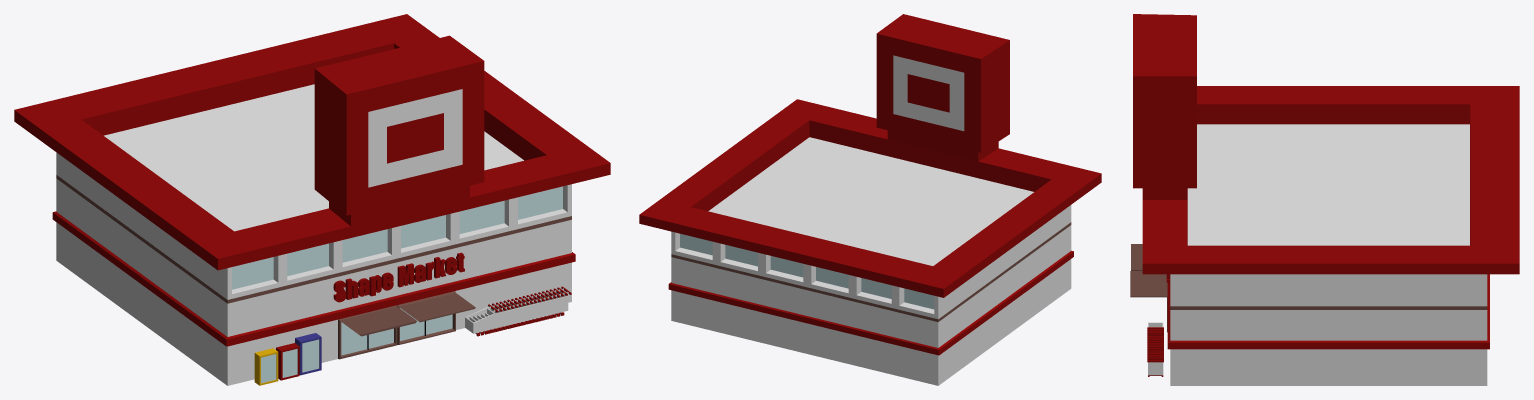
File: SuperMarket.fbx
3 renders of one model, left to right at view 1: azimuth 30°, elevation 25°; view 2: azimuth 150°, elevation 25°; view 3: azimuth 270°, elevation 25°, orthographic. The views are drawn at different scales.
Parts seen in each view (by area): view 1: Building, typeMesh5, pCube409, pCube410, pCube408; view 2: Building; view 3: Building.
Part boxes in pixels (x1,y1,x2,y2): Building: [14, 14, 610, 385]; typeMesh5: [333, 252, 464, 302]; pCube409: [295, 333, 321, 375]; pCube410: [254, 348, 278, 385]; pCube408: [276, 343, 299, 380]; Building: [639, 14, 1101, 385]; Building: [1130, 14, 1519, 385].
Size of the model in its own units: 278 by 191 by 258.
